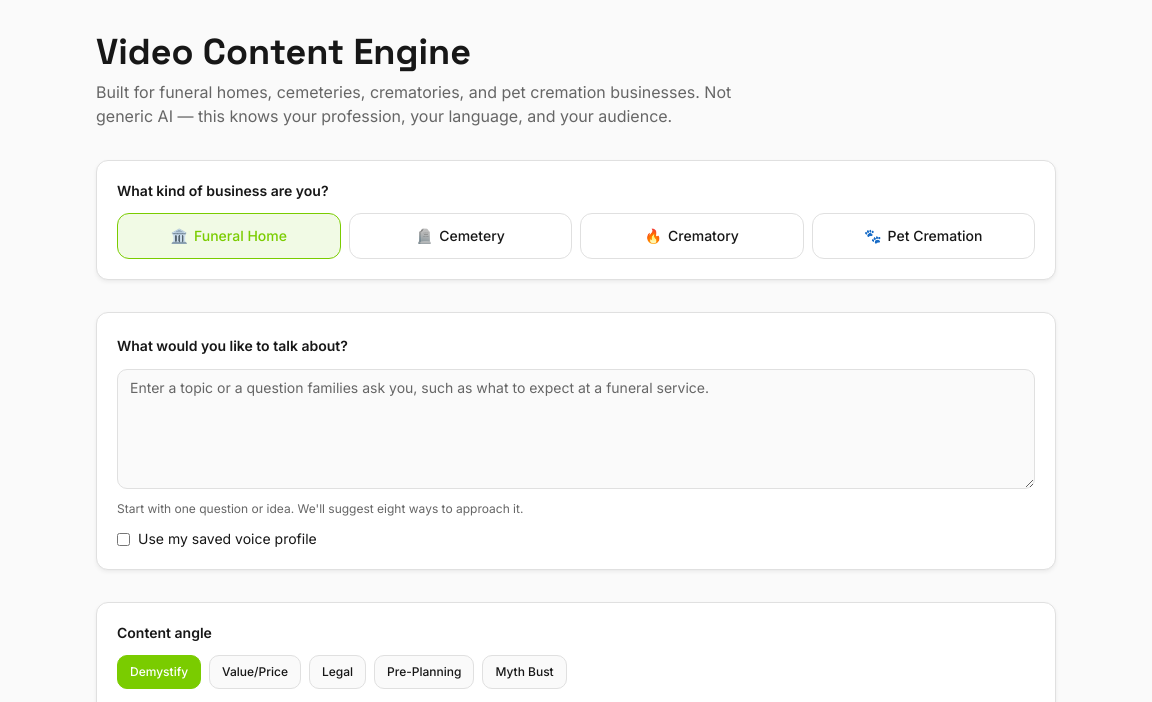
Scenario: free-text generator › keeps saved voice an explicit choice
This screenshot has width=1152, height=702.
Click the checkbox labelled "Use my saved voice profile".
click(124, 539)  # box x1=117 y1=532 x2=130 y2=546
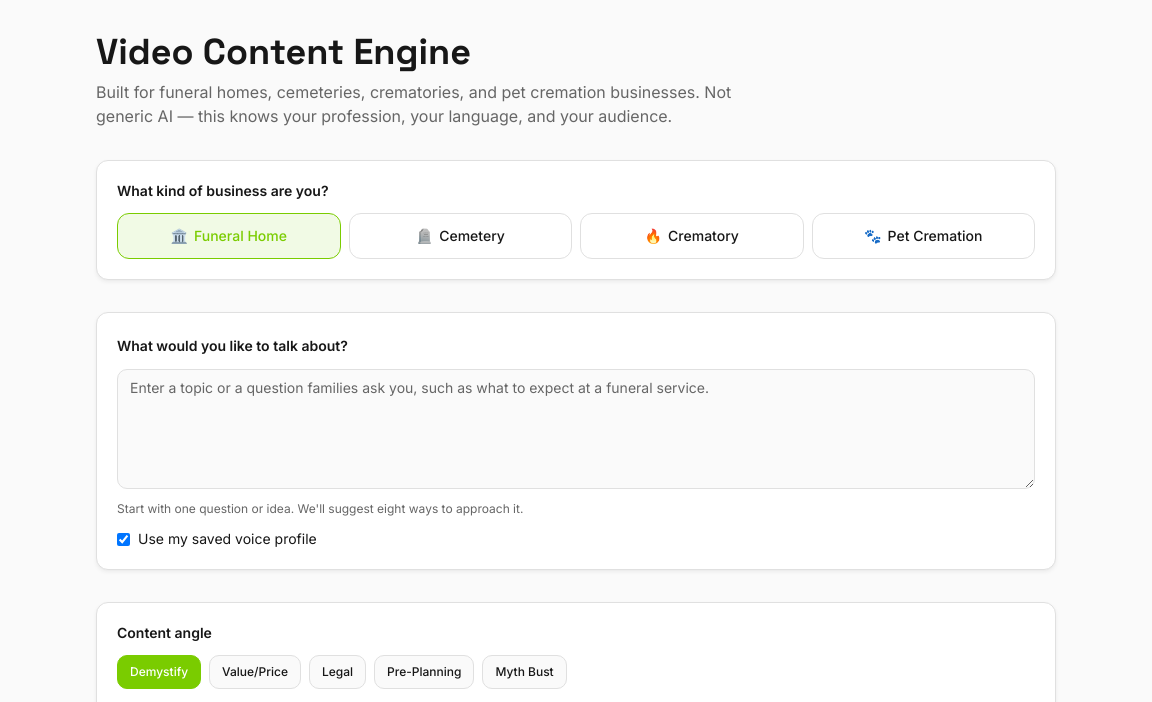
Replace the text in the text box labelled "What would you like to talk about?" with "a topic" at {"x": 576, "y": 429}, box x1=117 y1=369 x2=1035 y2=489
(page scrolled)
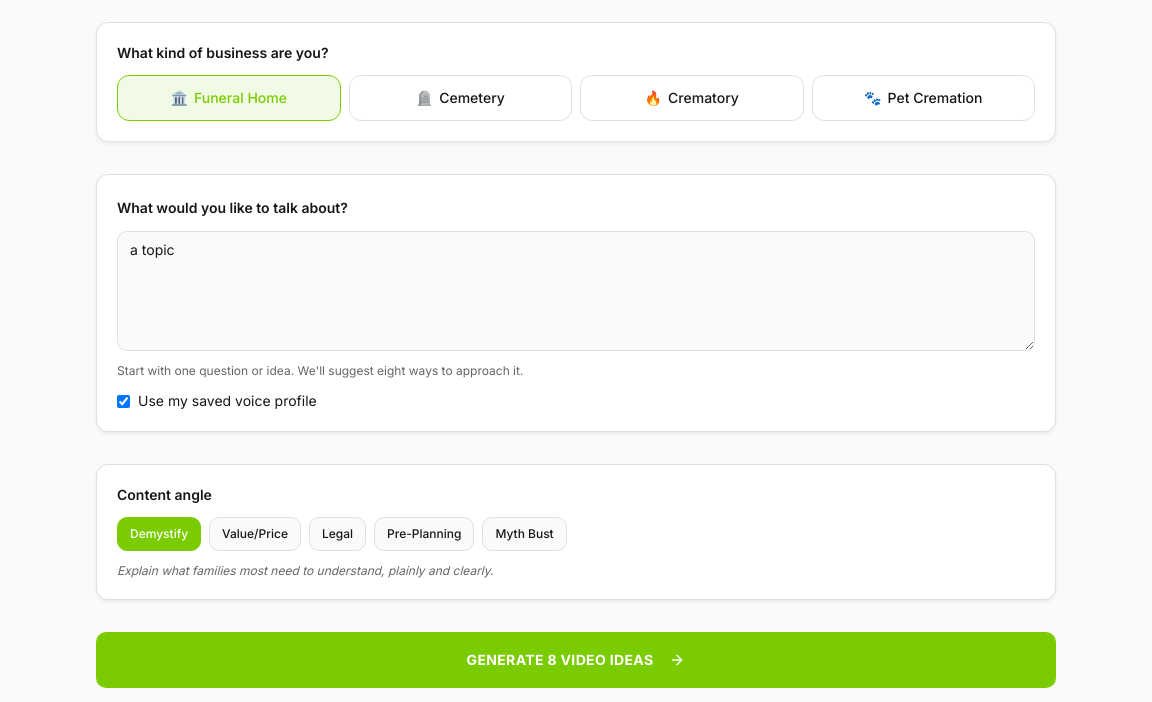
Click the button "Generate 8 Video Ideas".
click(576, 660)  # box x1=96 y1=632 x2=1056 y2=688
(page scrolled)
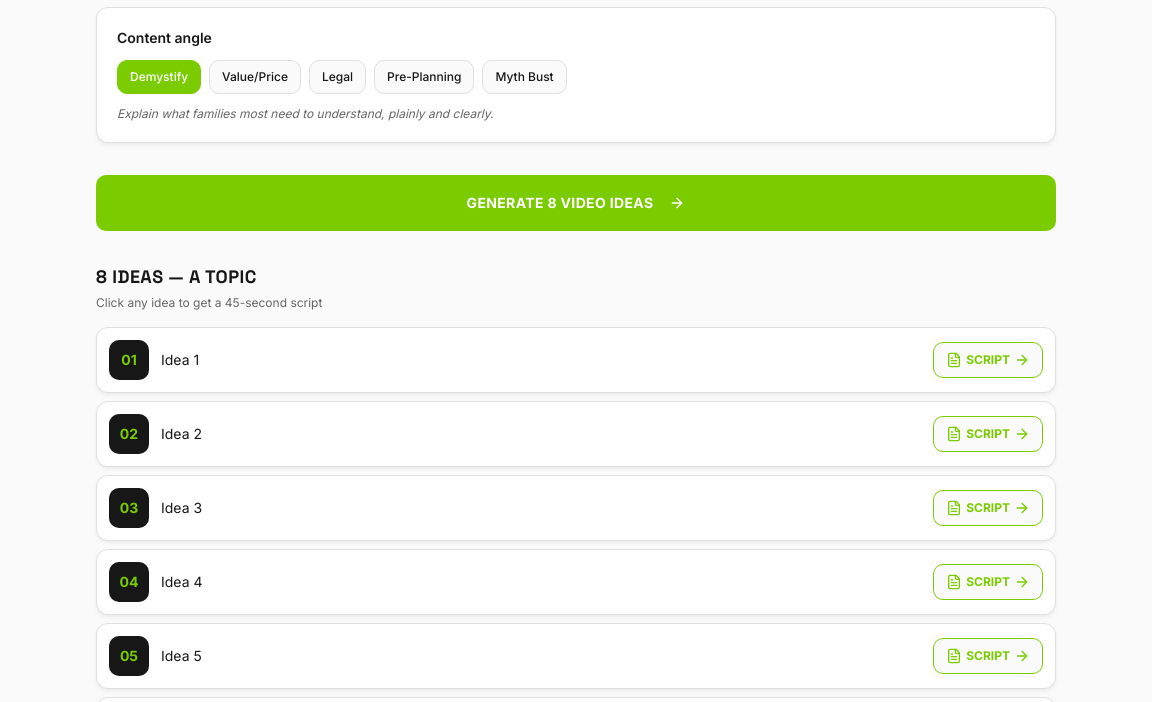
Expected: the text "Idea 1" is shown, x1=161 y1=351 x2=199 y2=368
